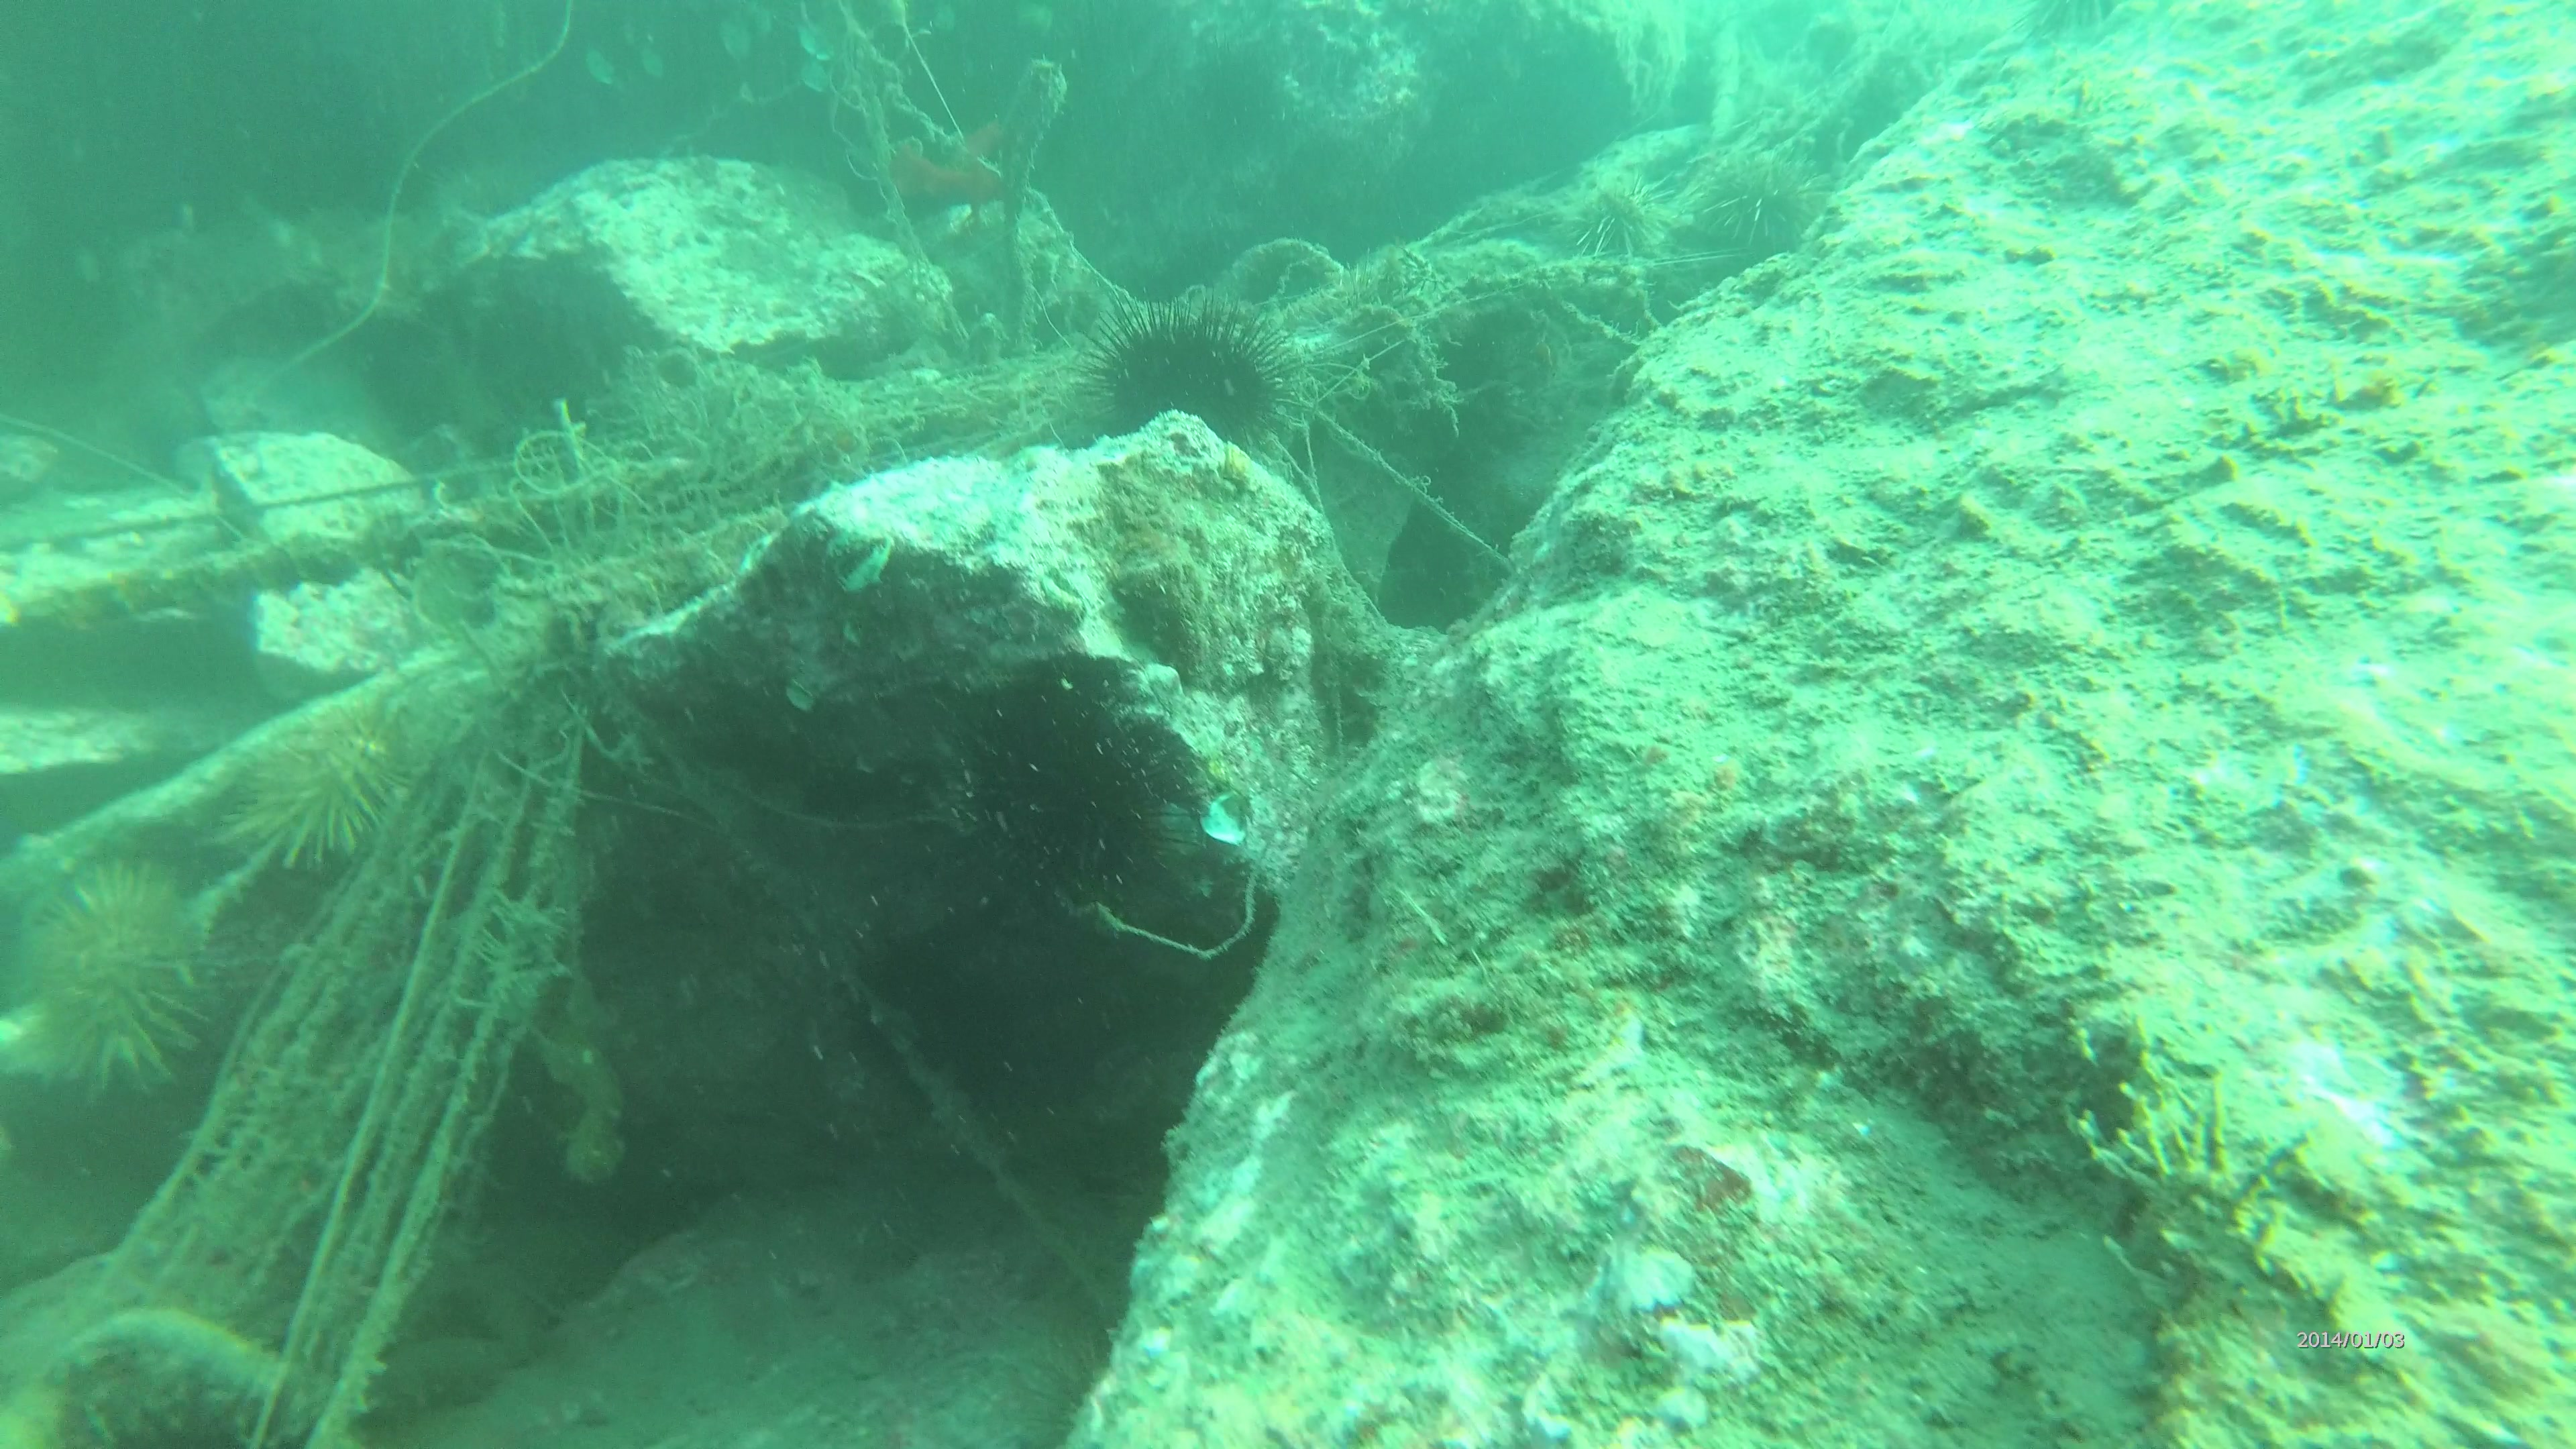echinus: (25, 867, 221, 1097), (1100, 306, 1292, 462), (239, 718, 410, 874)
